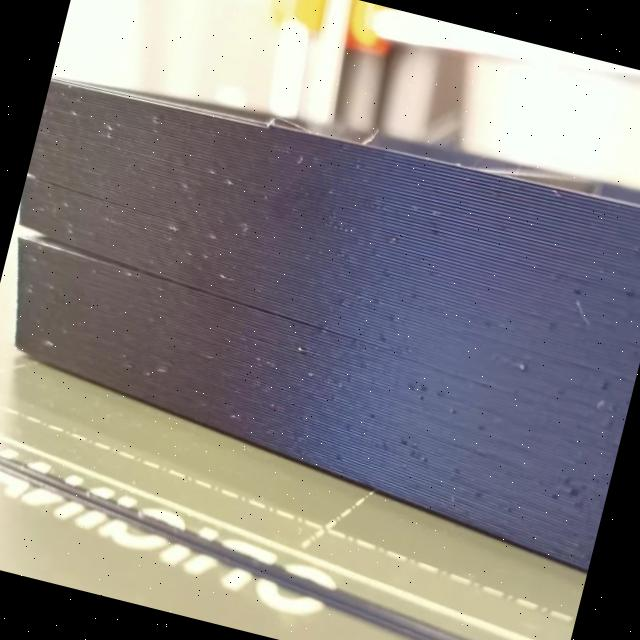cracks: (13, 196, 182, 300)
